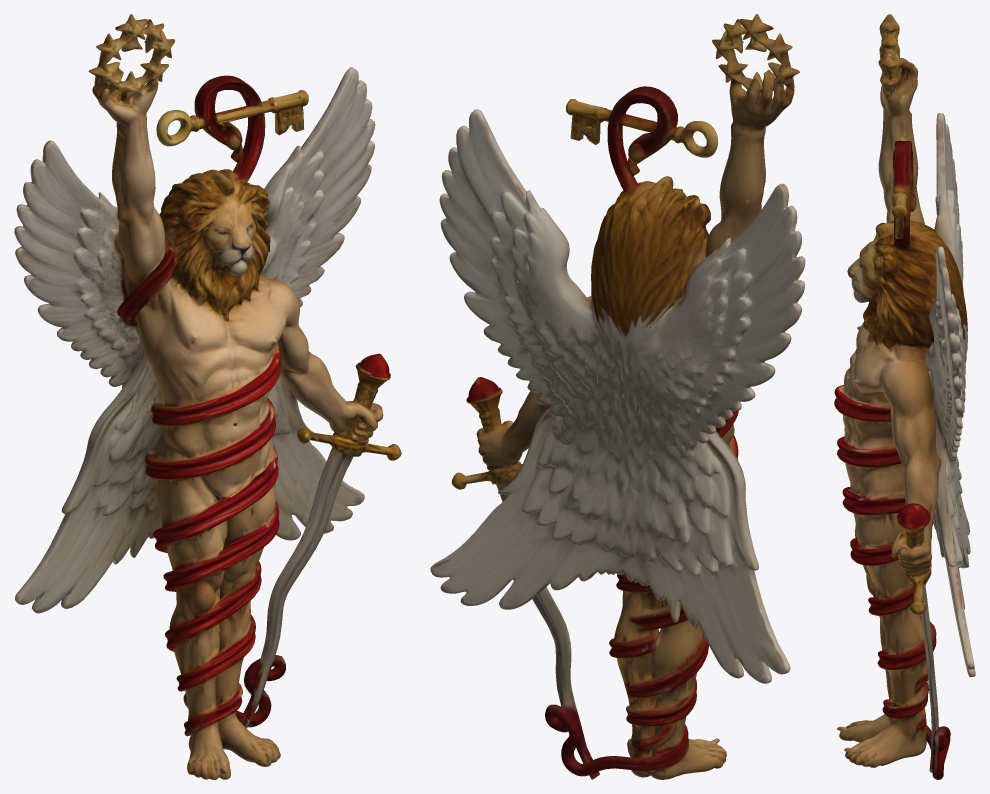
File: leontocephaline.glb
The picture shows the model from 3 angles, left to right: view 1: azimuth 30°, elevation 25°; view 2: azimuth 150°, elevation 25°; view 3: azimuth 270°, elevation 25°; orthographic projection. The views are drawn at different scales.
Visible parts, largest first — view 1: node_0; view 2: node_0; view 3: node_0.
Part boxes in pixels (bbox=[...]): node_0: bbox=[14, 14, 401, 779]; node_0: bbox=[430, 14, 805, 779]; node_0: bbox=[834, 14, 975, 779].
Size of the model in its own units: 0.5741 by 1.15 by 0.2114.
Materials: 1 (1 with a texture image).
